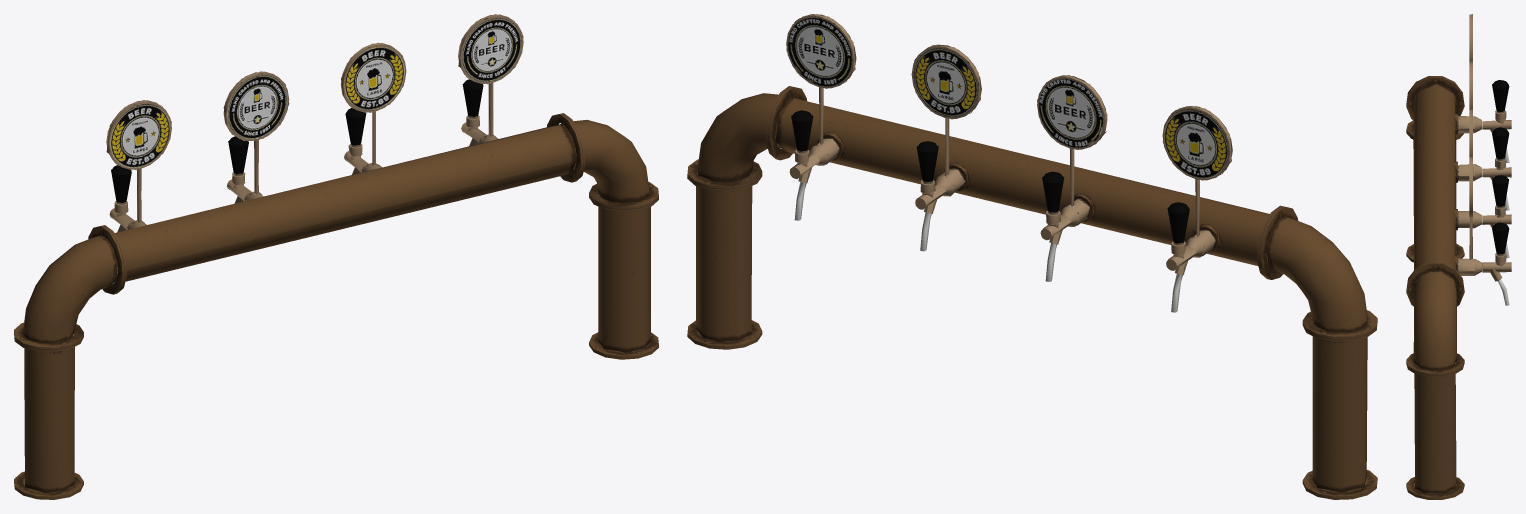
Rendered from BeerTower.glb.
3 views of the same model, side by side, from view 1: azimuth 30°, elevation 25°; view 2: azimuth 150°, elevation 25°; view 3: azimuth 270°, elevation 25° (orthographic). The views are drawn at different scales.
Visible parts, largest first — view 1: re_beer_tower_01_lo; view 2: re_beer_tower_01_lo; view 3: re_beer_tower_01_lo.
Part boxes in pixels (bbox=[...]): re_beer_tower_01_lo: bbox=[14, 14, 658, 499]; re_beer_tower_01_lo: bbox=[687, 14, 1377, 499]; re_beer_tower_01_lo: bbox=[1406, 14, 1511, 499].
Size of the model in its own units: 2 by 1.02 by 0.3465.
1 material, 1 textured.
